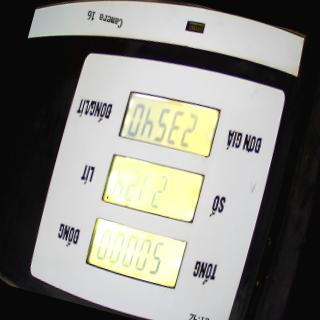screen: (79, 82, 226, 294)
